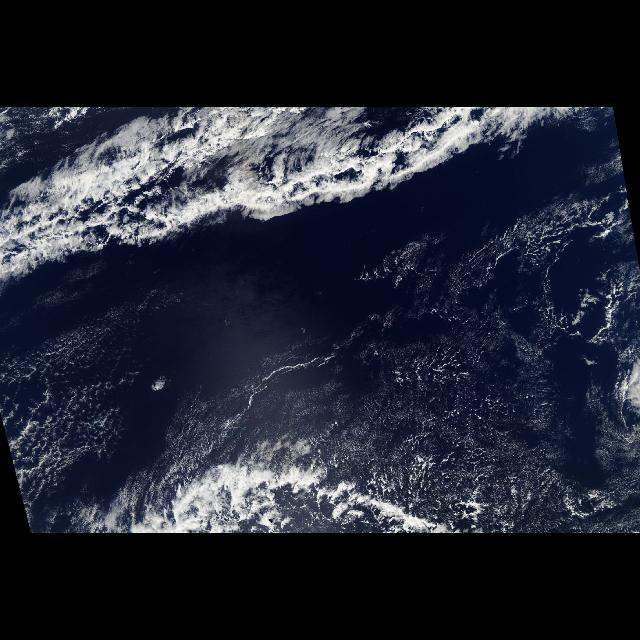Fish: (1, 110, 608, 274)
Sugar: (357, 289, 626, 527)
